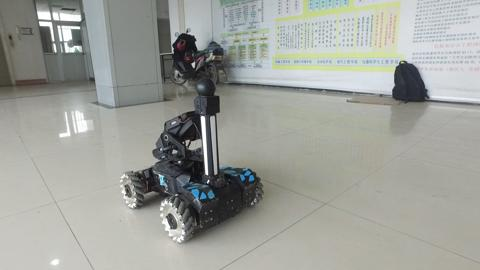bag: (390, 58, 435, 106)
chariot: (109, 79, 274, 245)
